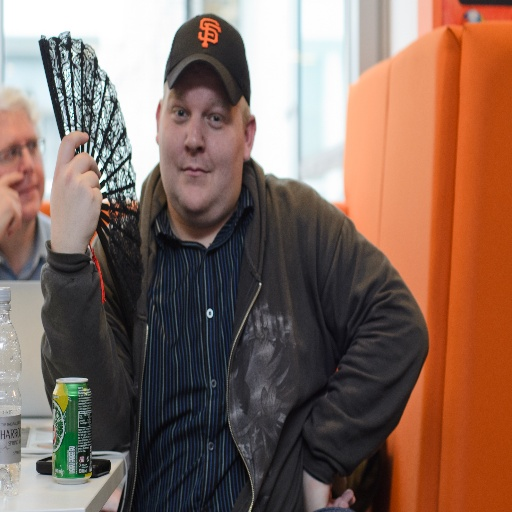hand: (32, 131, 99, 253), (302, 472, 357, 511), (0, 167, 24, 238)
